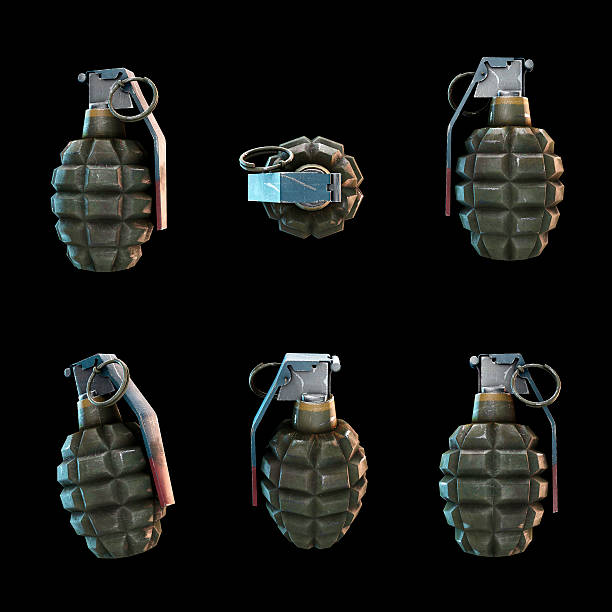e1: (48, 350, 187, 563), (245, 345, 373, 554), (437, 352, 564, 560), (446, 54, 569, 264), (50, 65, 174, 269), (226, 134, 371, 244)
